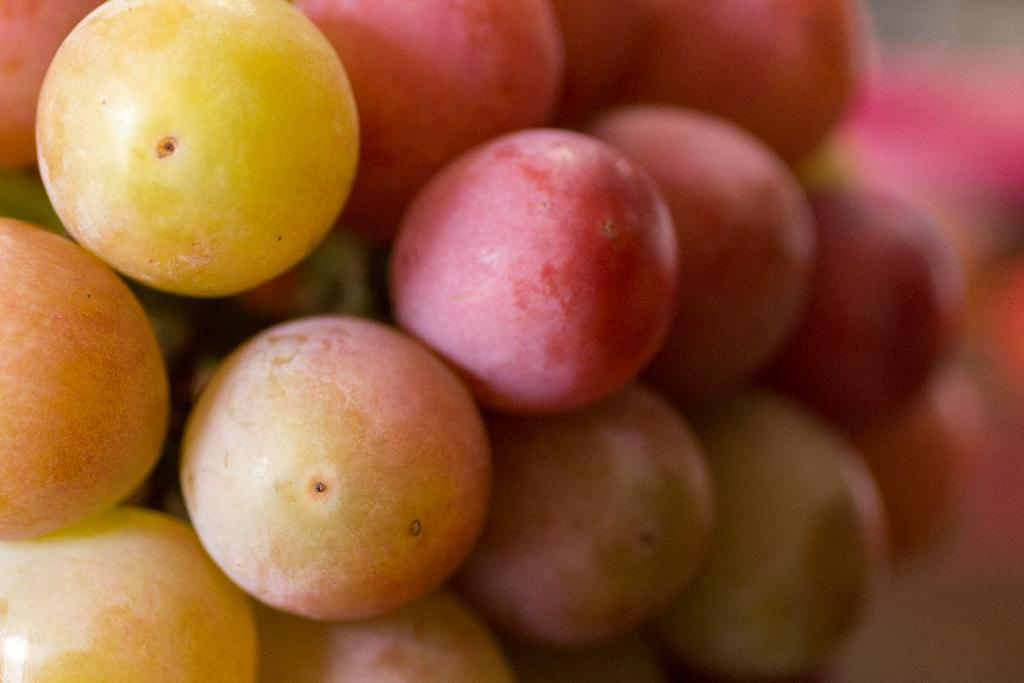Tomato: (359, 110, 675, 410)
